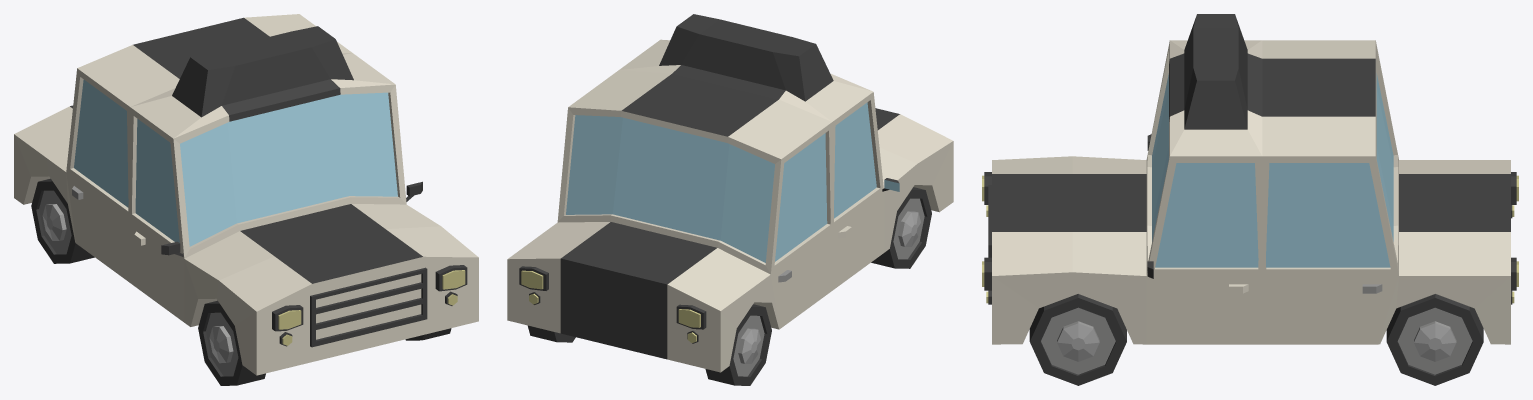
The model's file is TaxiCab.fbx.
The picture shows the model from 3 angles, left to right: view 1: azimuth 30°, elevation 25°; view 2: azimuth 150°, elevation 25°; view 3: azimuth 270°, elevation 25°; orthographic projection. The views are drawn at different scales.
Visible parts, largest first — view 1: TaxiCab; view 2: TaxiCab; view 3: TaxiCab.
Boxes of the visible parts, box(x1,y1,x2,y2) form: TaxiCab: box(14, 14, 478, 385); TaxiCab: box(507, 14, 953, 385); TaxiCab: box(982, 14, 1518, 385).
Bounding box in the file's own units: 349 × 338 × 581.
